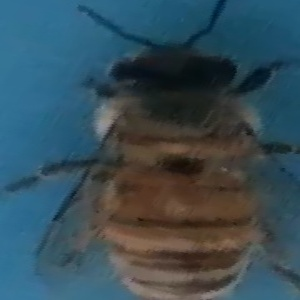bee: (52, 4, 297, 297)
